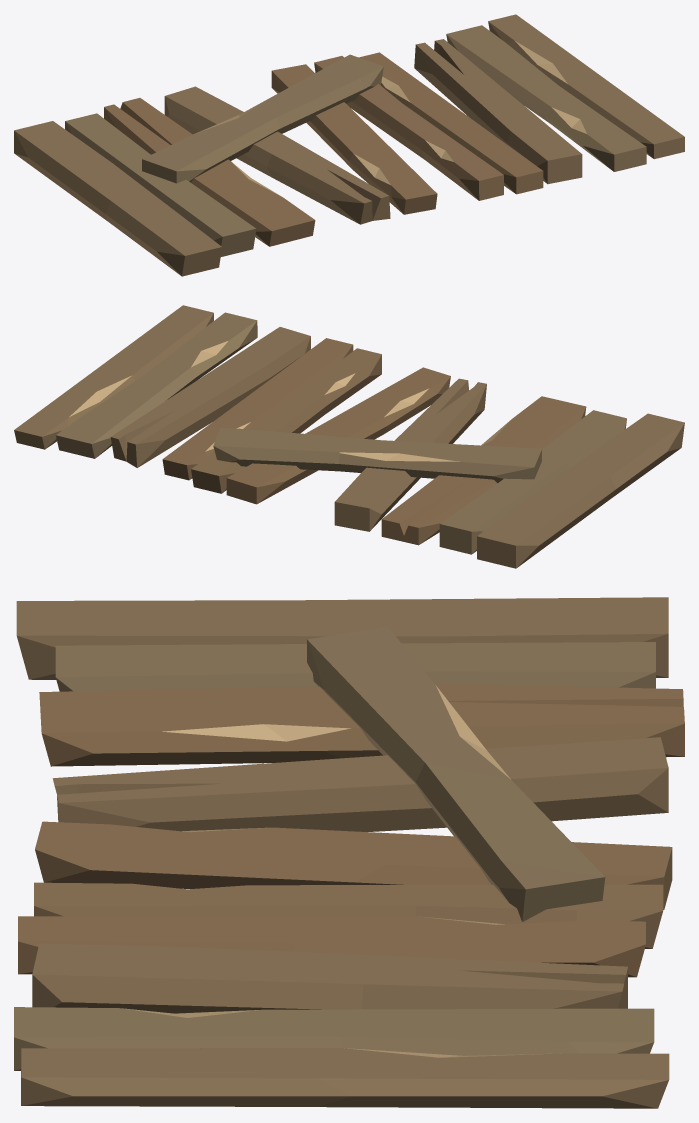
The model's file is rpgpp_ag_wall_platform_01c_4m.fbx.
3 renders of one model, top to bottom at view 1: azimuth 30°, elevation 25°; view 2: azimuth 150°, elevation 25°; view 3: azimuth 270°, elevation 25°, orthographic. The views are drawn at different scales.
Visible parts, largest first — view 1: rpgpp_ag_wall_platform_01c_4m; view 2: rpgpp_ag_wall_platform_01c_4m; view 3: rpgpp_ag_wall_platform_01c_4m.
Part boxes in pixels (x1,y1,x2,y2): rpgpp_ag_wall_platform_01c_4m: (14,14,684,276); rpgpp_ag_wall_platform_01c_4m: (14,305,684,568); rpgpp_ag_wall_platform_01c_4m: (14,597,684,1108).
Bounding box in the file's own units: 4 × 0.2732 × 2.37.
